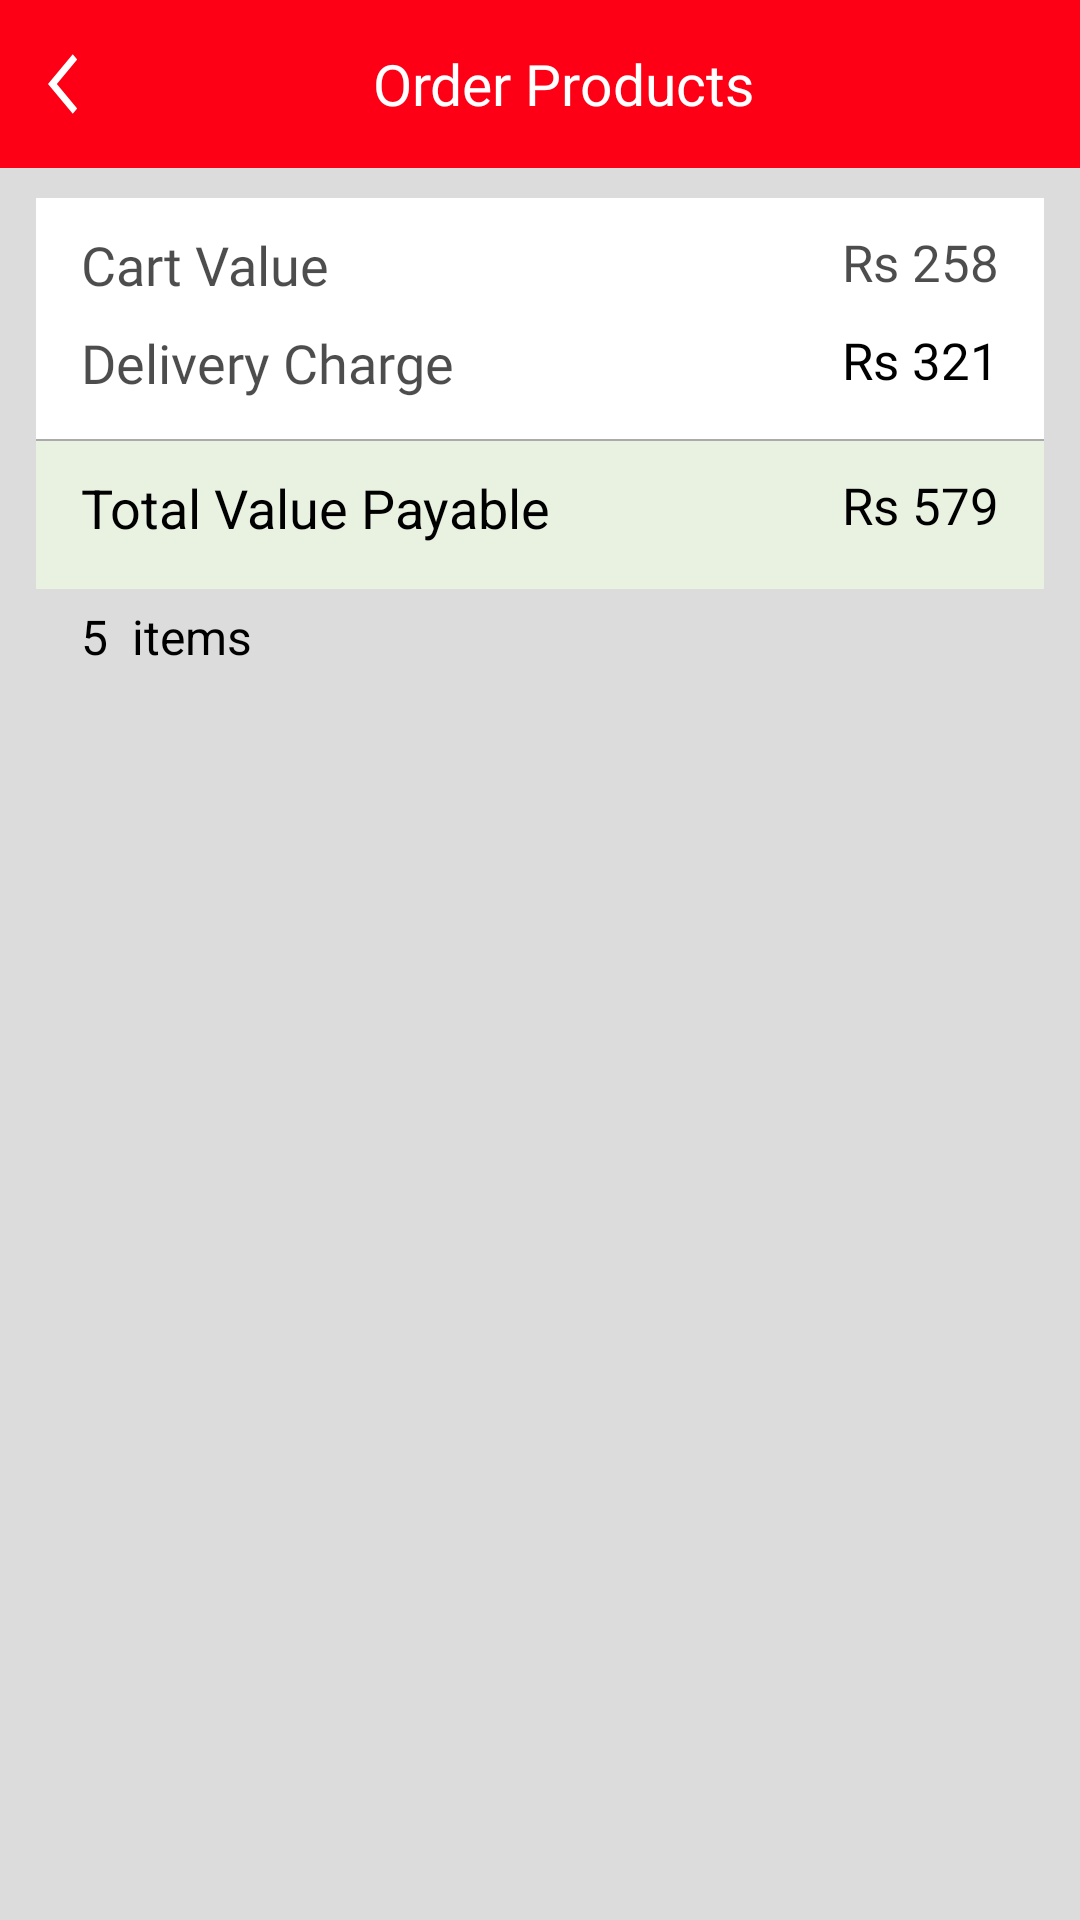

Icons on this 1080 × 1920 Android screen, each with its box as (x1, y1, x2, y2):
arrow back: (48, 54, 77, 114)
